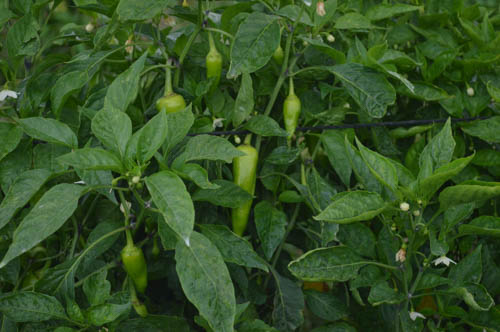ChiliPepper: (232, 145, 260, 237), (121, 246, 150, 291), (279, 98, 300, 139), (201, 55, 224, 81), (156, 94, 184, 113)
